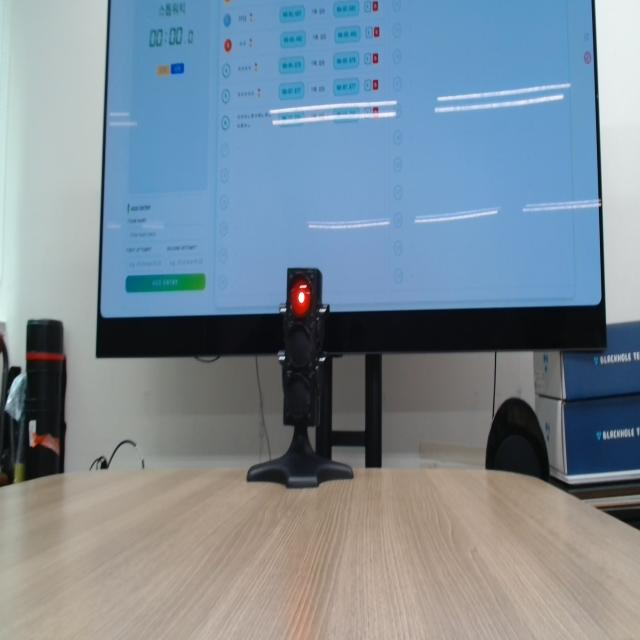red_light: (290, 279, 312, 318)
